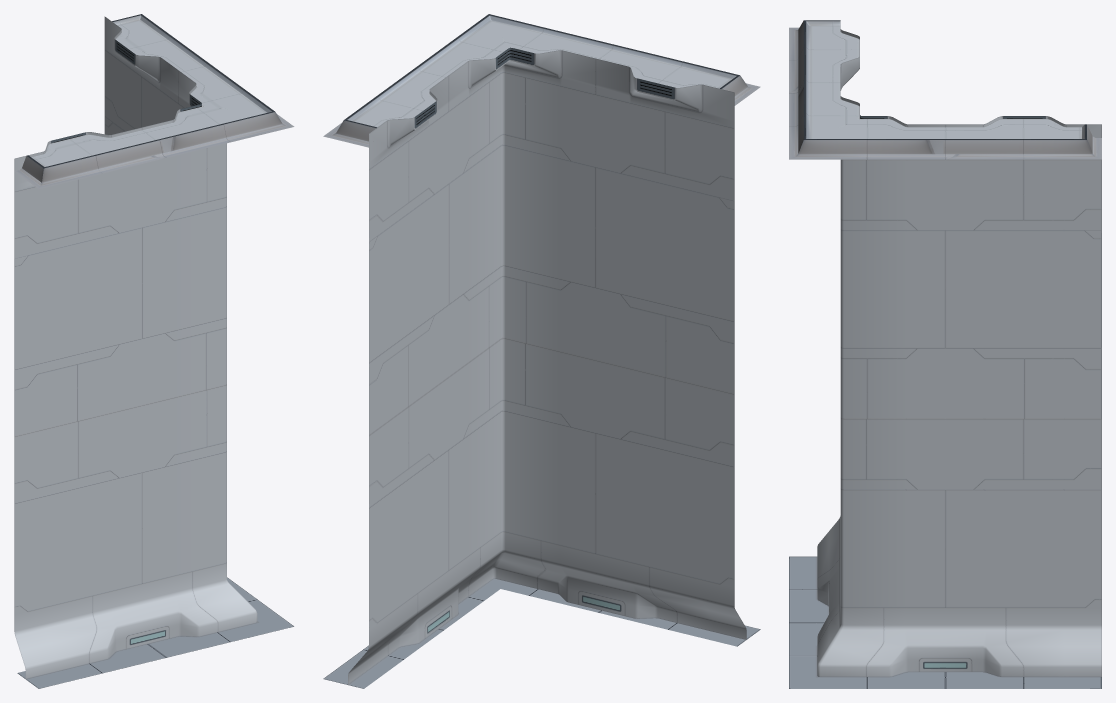
Rendered from Room_A_4m_corner_reverse_tall.fbx.
3 renders of one model, left to right at view 1: azimuth 30°, elevation 25°; view 2: azimuth 150°, elevation 25°; view 3: azimuth 270°, elevation 25°, orthographic. The views are drawn at different scales.
Visible parts, largest first — view 1: Room_A_4m_corner_reverse_tall; view 2: Room_A_4m_corner_reverse_tall; view 3: Room_A_4m_corner_reverse_tall.
Part boxes in pixels (x1,y1,x2,y2): Room_A_4m_corner_reverse_tall: (14,14,294,688); Room_A_4m_corner_reverse_tall: (323,14,760,688); Room_A_4m_corner_reverse_tall: (789,20,1101,688).
Bounding box in the file's own units: 400 × 766 × 400.
3 materials, 3 textured.
